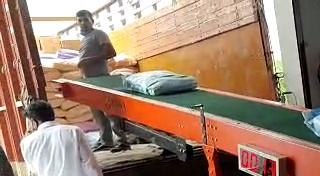box: (124, 70, 197, 95), (302, 108, 320, 136)
